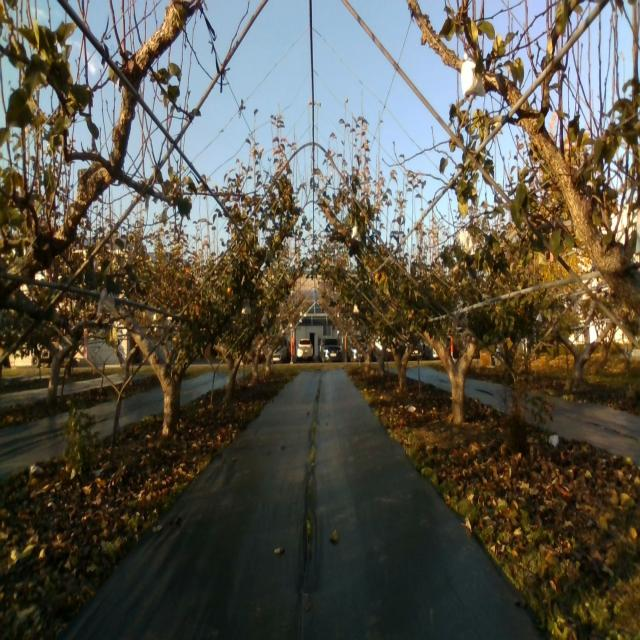pearbags: (461, 52, 486, 97), (96, 286, 118, 318), (460, 229, 474, 256)
